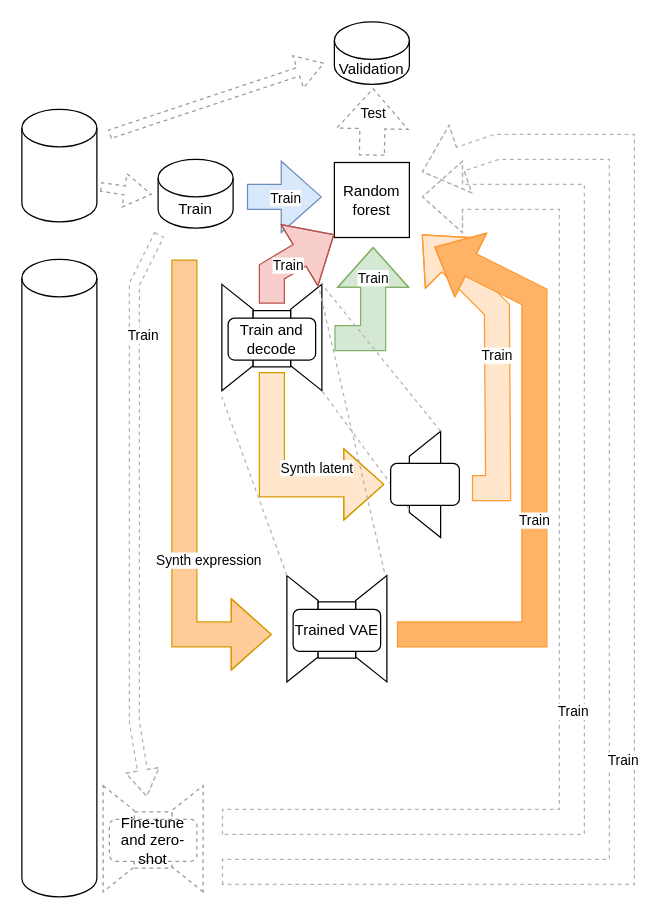
The diagram is 660 pixels wide and 919 high, and some of its shapes have lost their labels. Each missing label, with the centre of its shape:
BRCA: pixel 59 165
TCGA: pixel 59 577
Trained decoder: pixel 424 483
